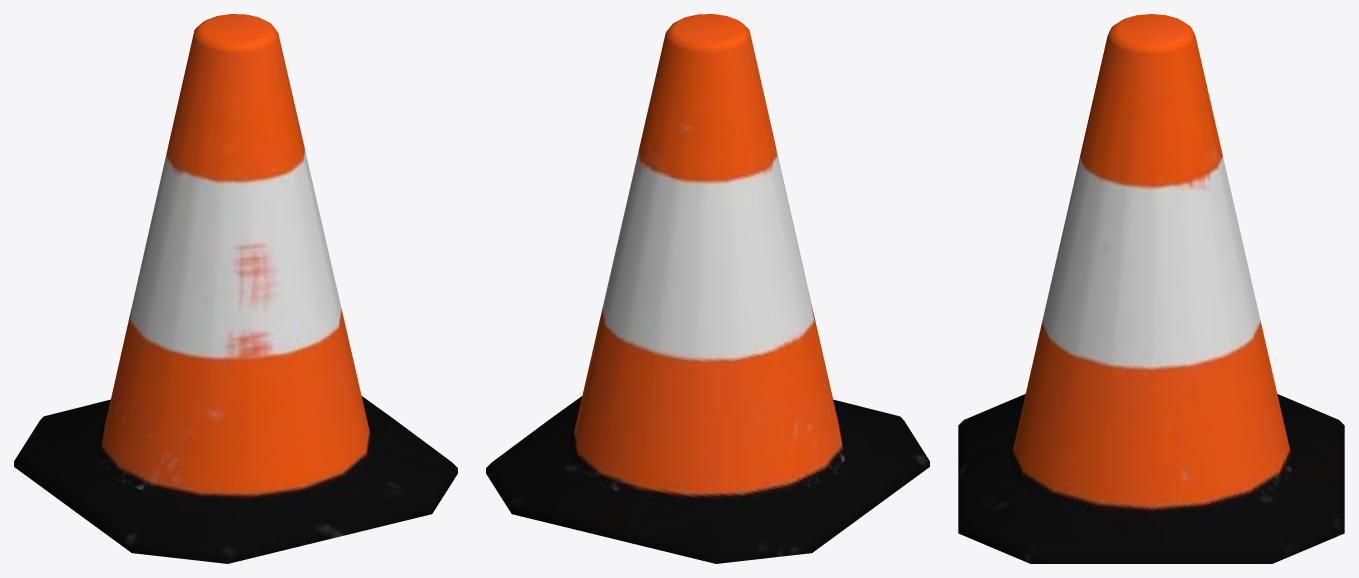
The picture shows the model from 3 angles, left to right: view 1: azimuth 30°, elevation 25°; view 2: azimuth 150°, elevation 25°; view 3: azimuth 270°, elevation 25°; orthographic projection. The views are drawn at different scales.
Parts seen in each view (by area): view 1: Object_3; view 2: Object_3; view 3: Object_3.
Boxes of the visible parts, x1,y1,x2,y2 form: Object_3: (14, 14, 457, 563); Object_3: (486, 14, 929, 563); Object_3: (958, 14, 1344, 563).
Bounding box in the file's own units: 0.3538 × 0.4581 × 0.3535.
1 material, 1 textured.
